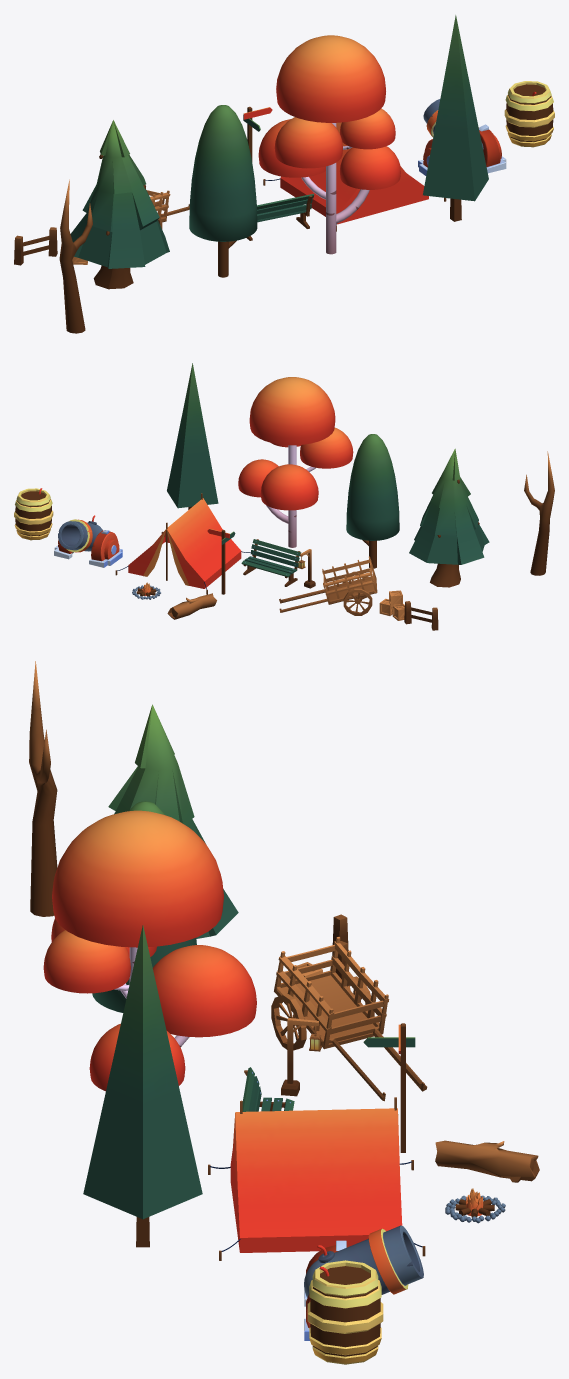
Rendered from Props.fbx.
The picture shows the model from 3 angles, top to bottom: view 1: azimuth 30°, elevation 25°; view 2: azimuth 150°, elevation 25°; view 3: azimuth 270°, elevation 25°; orthographic projection. The views are drawn at different scales.
Visible parts, largest first — view 1: pasted__Tree07, pasted__Tree05, polySurface56, pasted__Tree08, pasted__Tent, pasted__Barrel, pasted__DeadTree4, pasted__Bench, legs, pasted__Plane.2785, polySurface57, pasted__Wagon.002 (+1 smaller); view 2: pasted__Tree07, polySurface56, pasted__Tent, pasted__Tree05, pasted__Tree08, pasted__Wagon.002, pasted__Barrel, pasted__Bench, pasted__DeadTree4, legs, cannon, pasted__Trunk (+3 smaller); view 3: pasted__Tree07, pasted__Tent, pasted__Tree08, pasted__Wagon.002, pasted__Barrel, polySurface56, pasted__DeadTree4, cannon, pasted__Trunk, pasted__Post_Sign, pasted__Tree05, polySurface53 (+1 smaller).
Boxes of the visible parts, x1=… form: pasted__Tree07: x1=258, y1=35, x2=400, y2=254; pasted__Tree05: x1=189, y1=105, x2=257, y2=277; polySurface56: x1=70, y1=120, x2=169, y2=268; pasted__Tree08: x1=423, y1=15, x2=488, y2=221; pasted__Tent: x1=263, y1=122, x2=446, y2=231; pasted__Barrel: x1=504, y1=81, x2=554, y2=147; pasted__DeadTree4: x1=59, y1=179, x2=92, y2=333; pasted__Bench: x1=246, y1=193, x2=314, y2=240; legs: x1=418, y1=124, x2=506, y2=175; pasted__Plane.2785: x1=14, y1=227, x2=57, y2=265; polySurface57: x1=93, y1=265, x2=133, y2=289; pasted__Wagon.002: x1=146, y1=190, x2=189, y2=229; pasted__Tree07: x1=238, y1=377, x2=353, y2=547; polySurface56: x1=409, y1=448, x2=489, y2=564; pasted__Tent: x1=115, y1=493, x2=253, y2=594; pasted__Tree05: x1=346, y1=434, x2=399, y2=568; pasted__Tree08: x1=167, y1=363, x2=218, y2=509; pasted__Wagon.002: x1=279, y1=556, x2=377, y2=615; pasted__Barrel: x1=14, y1=488, x2=53, y2=540; pasted__Bench: x1=241, y1=539, x2=301, y2=586; pasted__DeadTree4: x1=524, y1=451, x2=554, y2=575; legs: x1=54, y1=530, x2=122, y2=567; cannon: x1=58, y1=519, x2=102, y2=552; pasted__Trunk: x1=167, y1=593, x2=216, y2=619; pasted__Tree07: x1=43, y1=810, x2=256, y2=1091; pasted__Tent: x1=208, y1=1097, x2=425, y2=1260; pasted__Tree08: x1=83, y1=925, x2=202, y2=1247; pasted__Wagon.002: x1=271, y1=937, x2=427, y2=1101; pasted__Barrel: x1=307, y1=1260, x2=383, y2=1364; polySurface56: x1=108, y1=704, x2=238, y2=938; pasted__DeadTree4: x1=29, y1=661, x2=57, y2=916; cannon: x1=304, y1=1225, x2=423, y2=1297; pasted__Trunk: x1=435, y1=1140, x2=539, y2=1182; pasted__Post_Sign: x1=363, y1=1023, x2=415, y2=1152; pasted__Tree05: x1=92, y1=801, x2=196, y2=1012; polySurface53: x1=281, y1=1018, x2=321, y2=1096.
Size of the model in its own units: 36.96 by 13.36 by 17.74.
